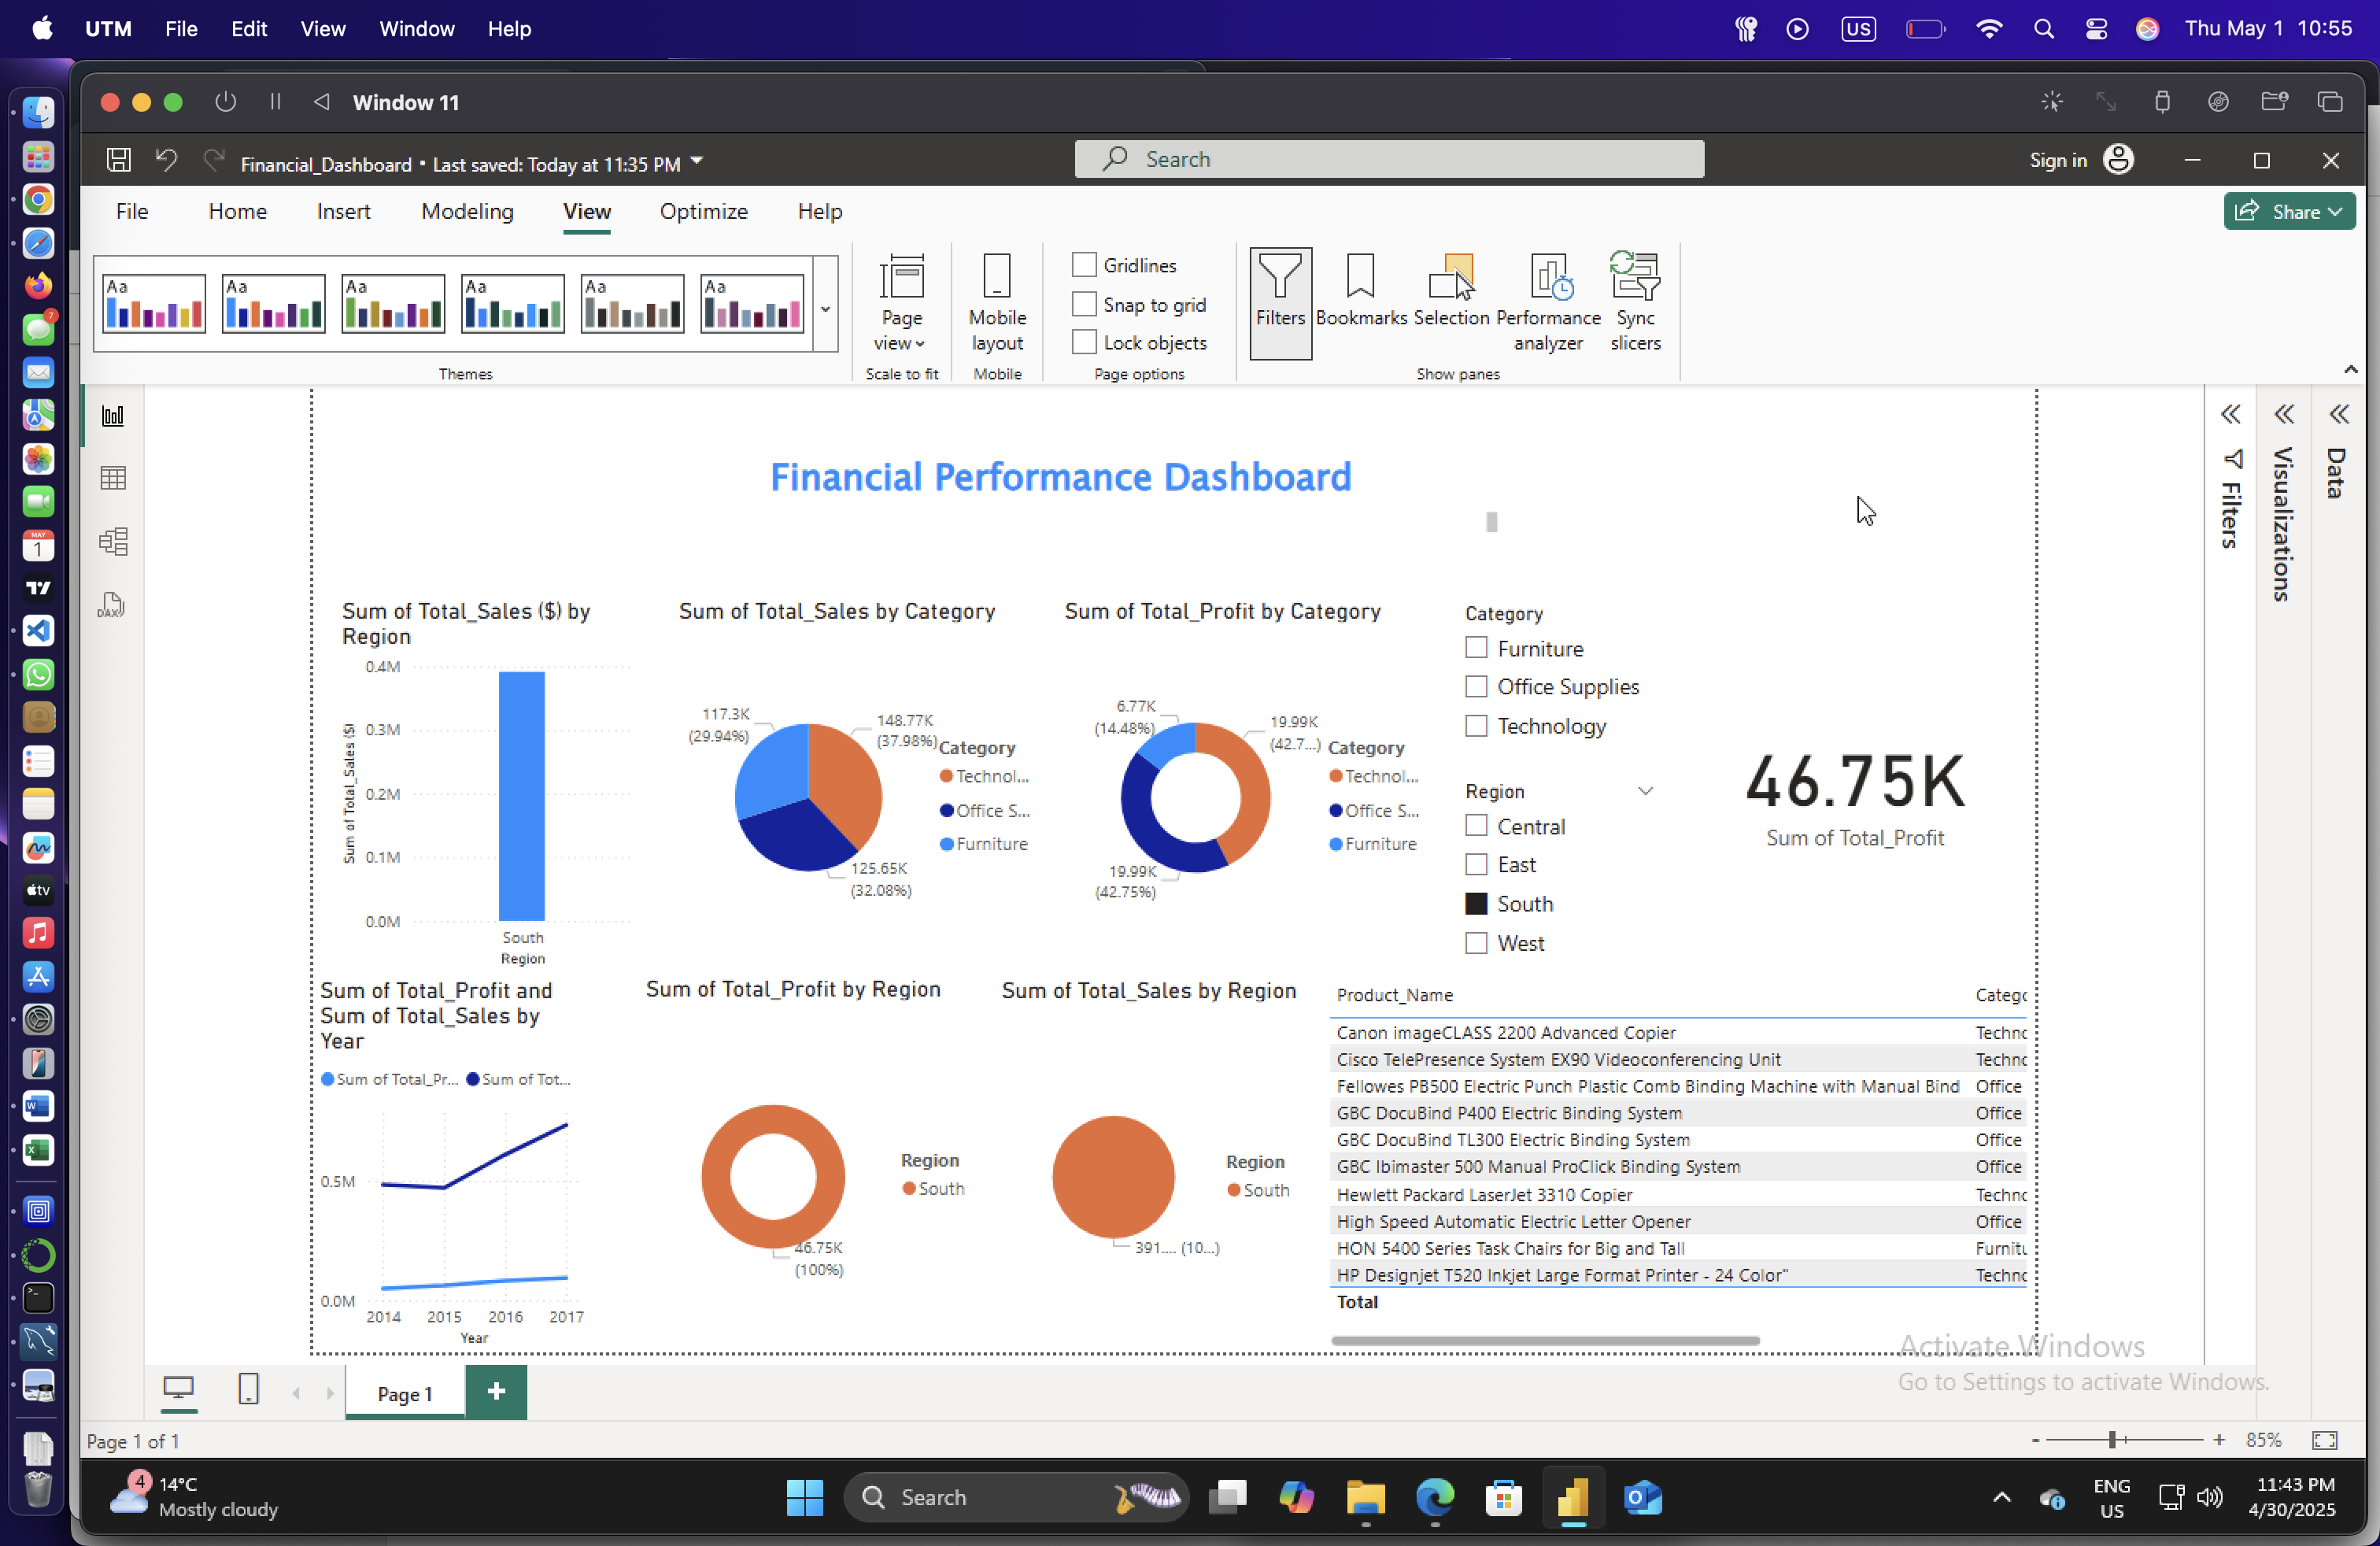

Layout of this report page (visuals, bound fields, positions):
{"tool":"powerbi","page":{"name":"Page 1","canvas":[1280,720],"ordinal":0},"visuals":[{"type":"columnChart","fields":{"Category":["sales_by_region c.Region"],"Y":["Sum(sales_by_region c.Total_Sales)"]},"box":[16.6,158.3,226.1,280.4],"z":0},{"type":"lineChart","fields":{"Category":["monthly_trends.Order_Month.Variation.Date Hierarchy.Year","monthly_trends.Order_Month.Variation.Date Hierarchy.Quarter","monthly_trends.Order_Month.Variation.Date Hierarchy.Month","monthly_trends.Order_Month.Variation.Date Hierarchy.Day"],"Y":["Sum(monthly_trends.Total_Profit)","Sum(monthly_trends.Total_Sales)"]},"box":[0,440.2,206.5,280.4],"z":1000},{"type":"pieChart","fields":{"Category":["sales_by_region c.Category"],"Y":["Sum(sales_by_region c.Total_Sales)"]},"box":[266.9,158.3,286.5,280.4],"z":2000},{"type":"donutChart","fields":{"Category":["sales_by_region c.Region"],"Y":["Sum(sales_by_region c.Total_Profit)"]},"box":[242.7,438.7,263.8,281.9],"z":3000},{"type":"card","fields":{"Values":["Sum(sales_by_region c.Total_Profit)"]},"box":[1039.6,158,215.4,281],"z":4000},{"type":"tableEx","fields":{"Values":["top_products_cleaned.Product_Name","top_products_cleaned.Category","Sum(top_products_cleaned.Total_Sales)","Sum(top_products_cleaned.Total_Quantity)"]},"box":[750.8,438.7,529.2,281.9],"z":5000},{"type":"donutChart","fields":{"Category":["sales_by_region c.Category"],"Y":["Sum(sales_by_region c.Total_Profit)"]},"box":[553.3,158.3,291,280.4],"z":6000},{"type":"pieChart","fields":{"Category":["sales_by_region c.Region"],"Y":["Sum(sales_by_region c.Total_Sales)"]},"box":[506.6,440.2,241.2,280.4],"z":7000},{"type":"slicer","fields":{"Values":["sales_by_region c.Category"]},"box":[844,158,208,153],"z":8000},{"type":"textbox","title":"Financial Performance Dashboard","box":[335.1,49.4,551.2,66.4],"z":9001},{"type":"slicer","fields":{"Values":["sales_by_region c.Region"]},"box":[844,290,166,150],"z":9002}]}

Visuals, with their boxes on the page's 1280x720 design canvas (x1, y1, x2, y2). These are canvas units, not pixel positions in the 2380x1546 screenshot, which may show the page scaled, cropped or inside an application window:
columnChart - sales_by_region c.Region x Sum(sales_by_region c.Total_Sales): (17,158,243,439)
lineChart - monthly_trends.Order_Month.Variation.Date Hierarchy.Year x monthly_trends.Order_Month.Variation.Date Hierarchy.Quarter: (0,440,206,721)
pieChart - sales_by_region c.Category x Sum(sales_by_region c.Total_Sales): (267,158,553,439)
donutChart - sales_by_region c.Region x Sum(sales_by_region c.Total_Profit): (243,439,506,721)
card - Sum(sales_by_region c.Total_Profit): (1040,158,1255,439)
tableEx - top_products_cleaned.Product_Name x top_products_cleaned.Category: (751,439,1280,721)
donutChart - sales_by_region c.Category x Sum(sales_by_region c.Total_Profit): (553,158,844,439)
pieChart - sales_by_region c.Region x Sum(sales_by_region c.Total_Sales): (507,440,748,721)
slicer - sales_by_region c.Category: (844,158,1052,311)
"Financial Performance Dashboard" textbox: (335,49,886,116)
slicer - sales_by_region c.Region: (844,290,1010,440)
